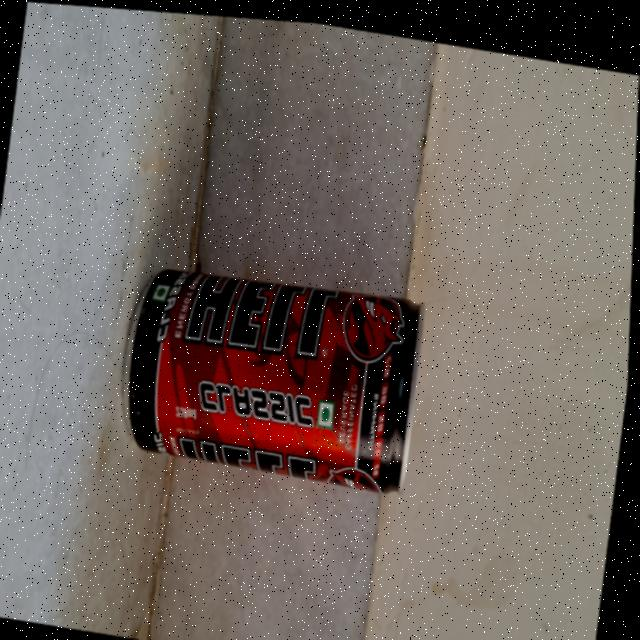Hell Classic: (112, 210, 446, 511)
